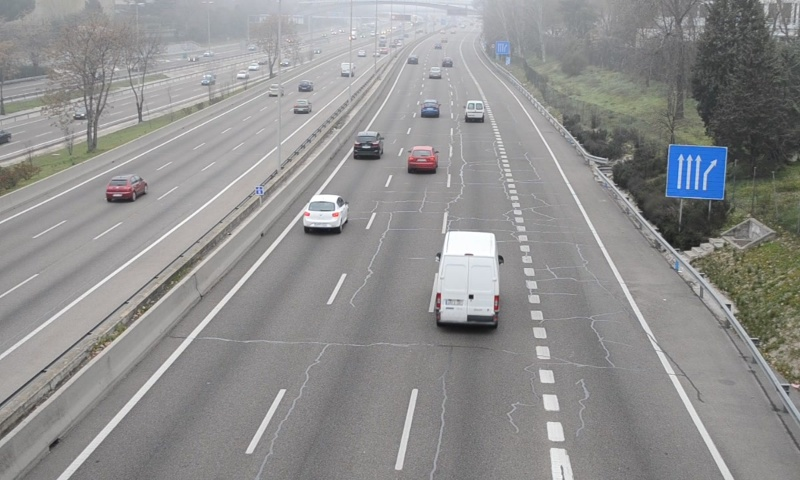car: (304, 195, 348, 230), (353, 132, 382, 158), (408, 146, 437, 172), (420, 99, 440, 116)
van: (435, 231, 499, 328), (464, 100, 486, 124)
